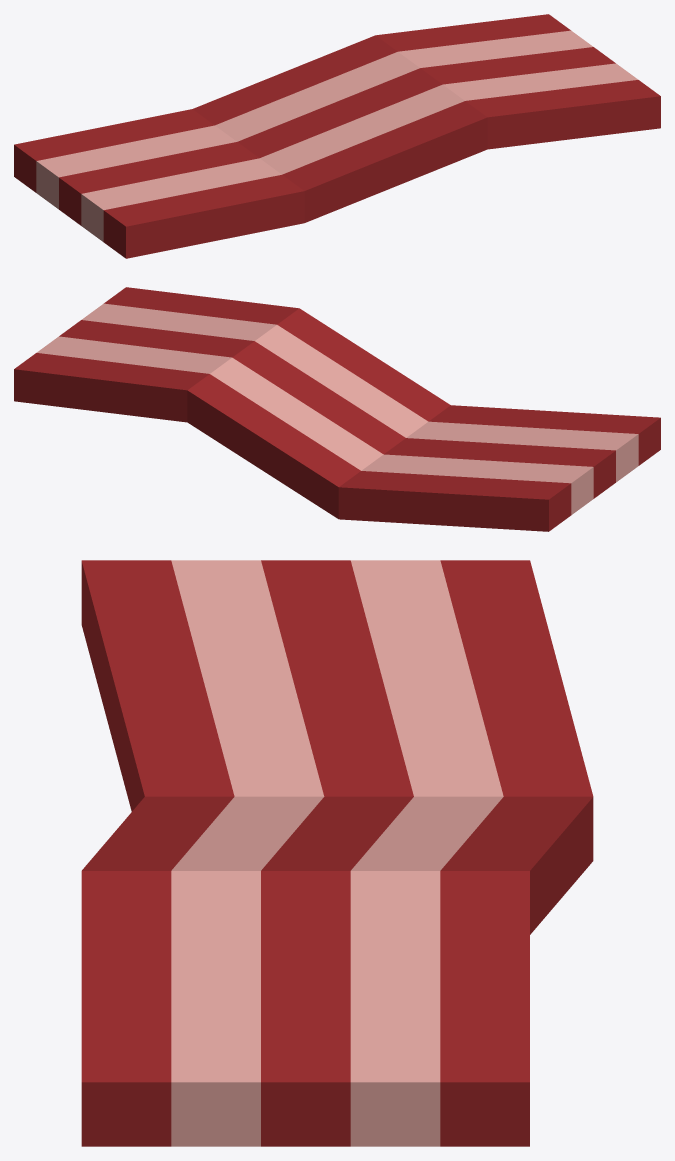
The model's file is bacon.fbx.
3 views of the same model, one above another, from view 1: azimuth 30°, elevation 25°; view 2: azimuth 150°, elevation 25°; view 3: azimuth 270°, elevation 25° (orthographic). The views are drawn at different scales.
Parts seen in each view (by area): view 1: Cube.001; view 2: Cube.001; view 3: Cube.001.
Part boxes in pixels (x1=…): Cube.001: x1=14, y1=14, x2=660, y2=258; Cube.001: x1=14, y1=287, x2=660, y2=531; Cube.001: x1=81, y1=560, x2=593, y2=1146.
Bounding box in the file's own units: 551 × 75.43 × 228.
